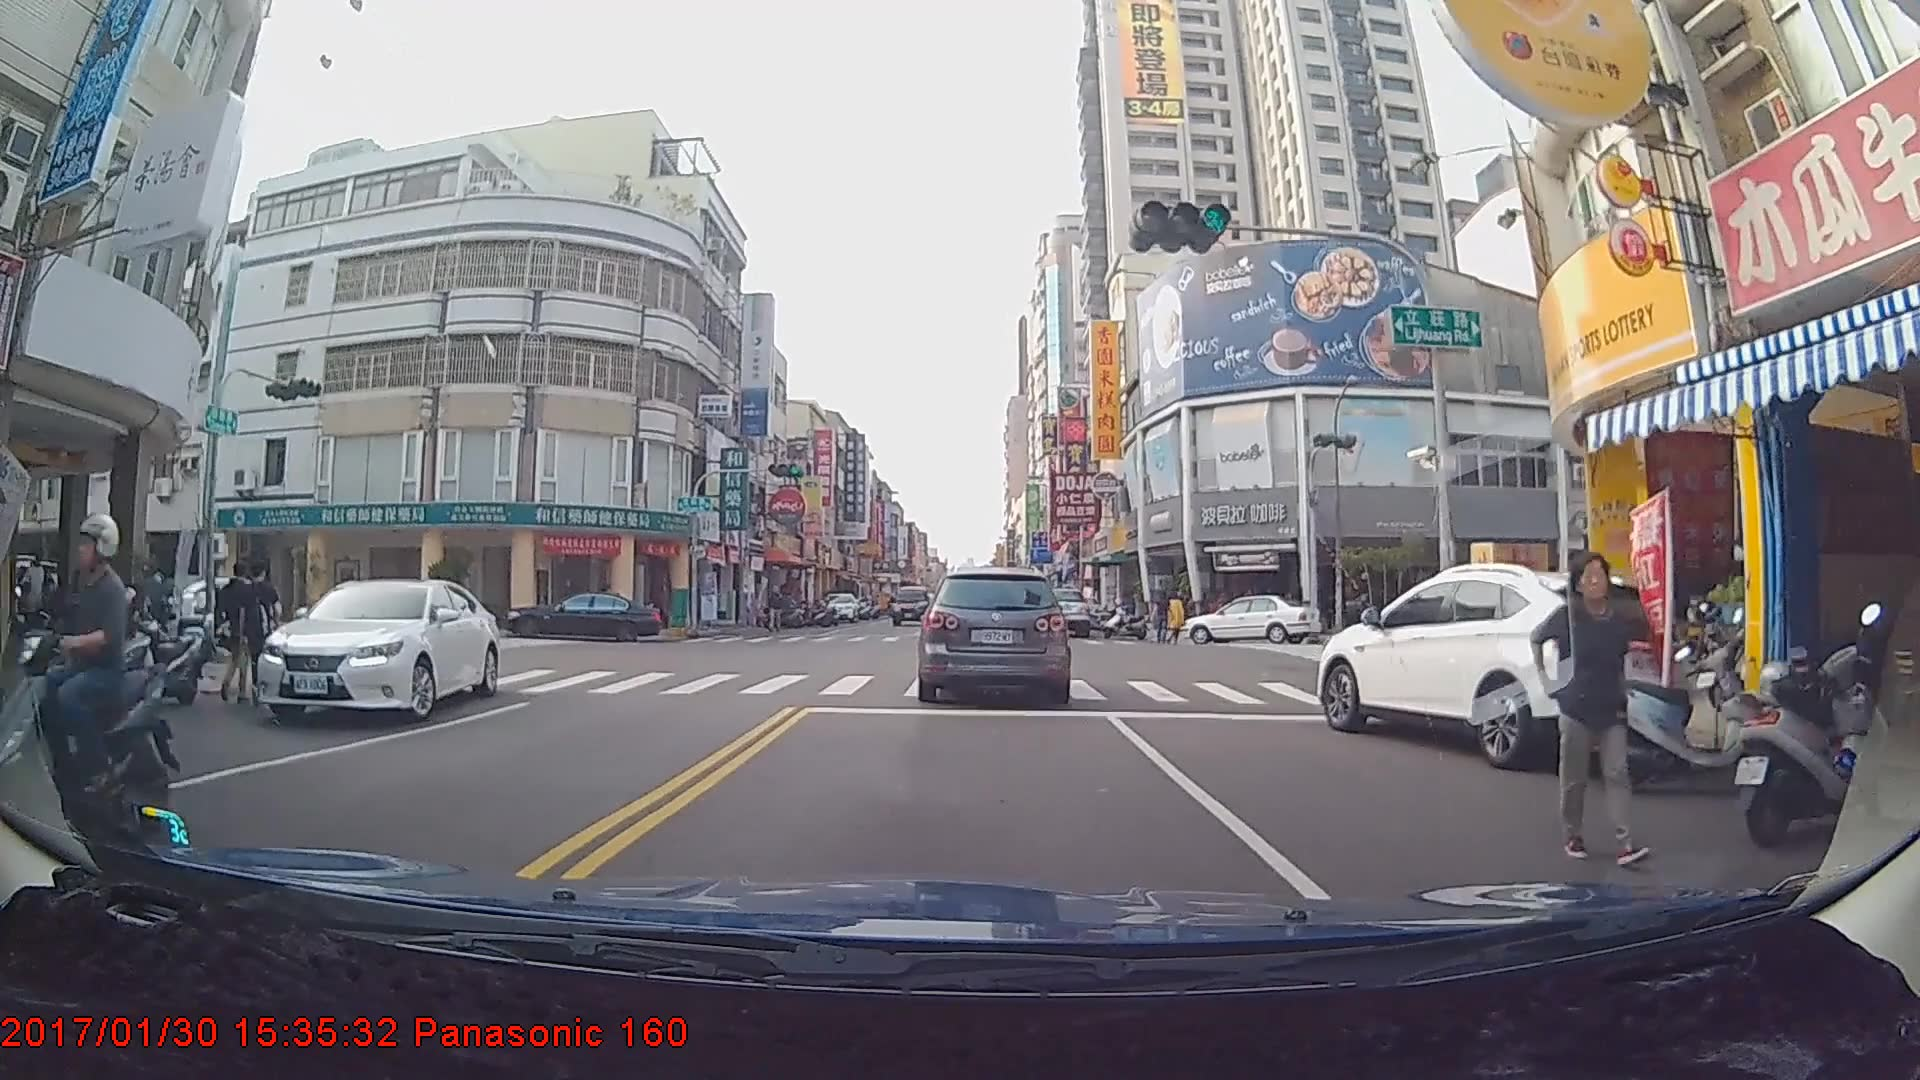pedestrian: (1537, 550, 1664, 864), (234, 558, 285, 701), (215, 564, 255, 701), (1151, 589, 1175, 644), (1167, 588, 1189, 645), (767, 585, 787, 632)
rider: (13, 509, 182, 851)
vehicle: (1314, 557, 1694, 769), (246, 575, 495, 723), (919, 565, 1067, 701), (504, 588, 662, 642), (1179, 592, 1322, 644), (1028, 585, 1089, 638), (890, 582, 931, 624), (816, 590, 859, 622)
